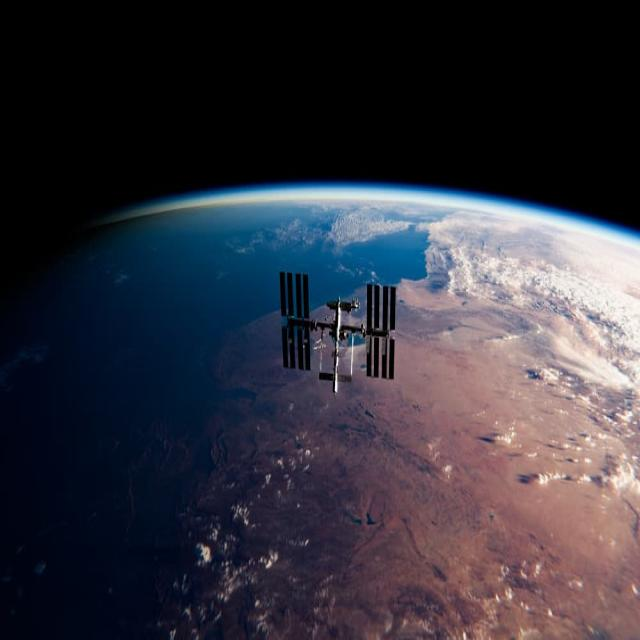medium_debris: (272, 254, 408, 415)
